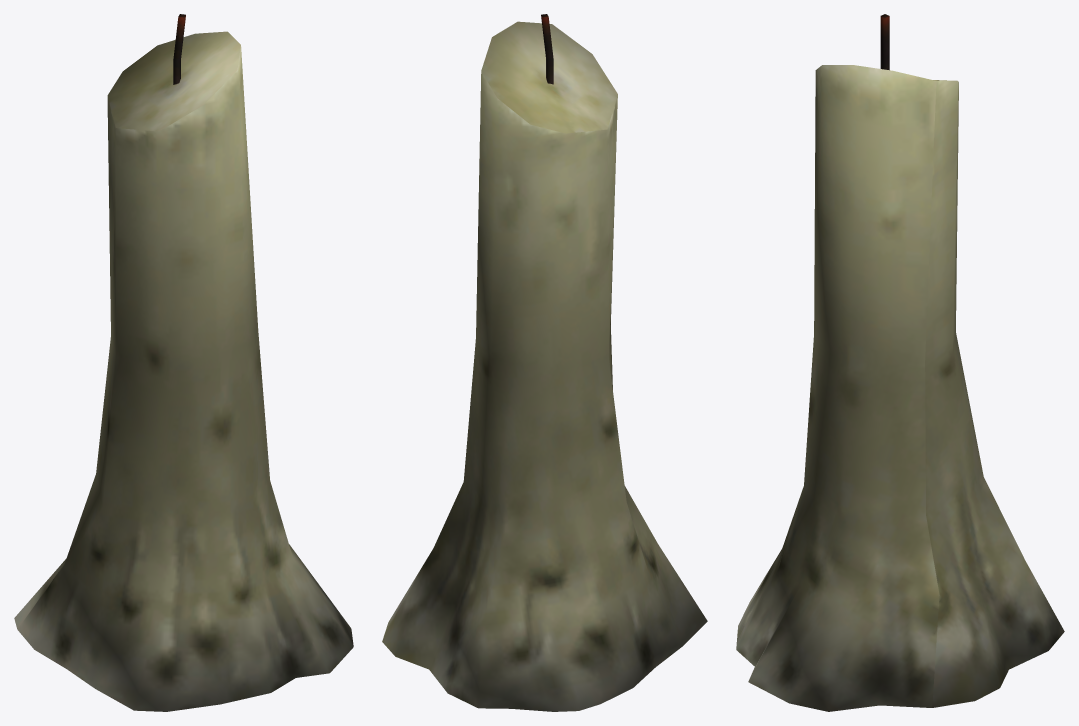
Rendered from candle01.dae.
3 views of the same model, side by side, from view 1: azimuth 30°, elevation 25°; view 2: azimuth 150°, elevation 25°; view 3: azimuth 270°, elevation 25° (orthographic).
Visible parts, largest first — view 1: polySurface1; view 2: polySurface1; view 3: polySurface1.
Part boxes in pixels (x1=…): polySurface1: x1=14, y1=14, x2=353, y2=711; polySurface1: x1=382, y1=14, x2=707, y2=711; polySurface1: x1=736, y1=14, x2=1064, y2=711.
Size of the model in its own units: 0.1855 by 0.4285 by 0.2033.
1 material, 1 textured.
